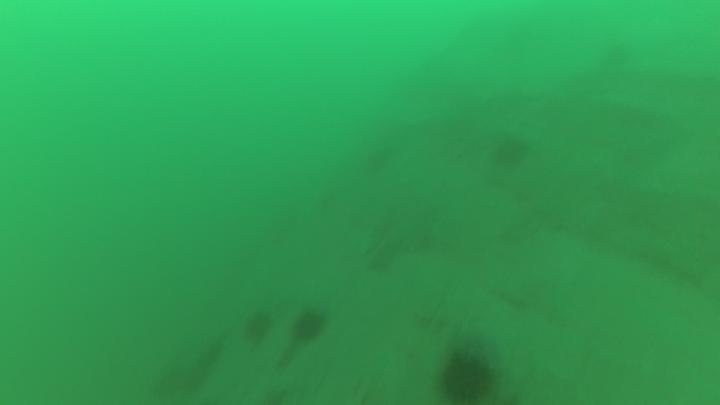echinus: (433, 344, 501, 405), (488, 131, 532, 173), (289, 305, 330, 347), (240, 307, 276, 346), (361, 141, 398, 177)
